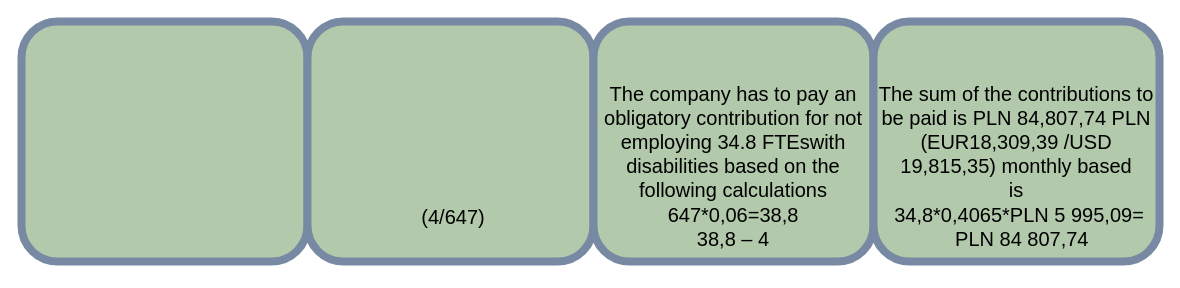
The diagram is 1180 pixels wide and 288 high, and some of its shapes have lost their labels. The box of each missing label's shape, as (x1, y1, x2, y2) in pixels:
647 FTEs in general 4 employees with disabilities: (17, 17, 311, 265)
The employment rate of persons with disabilities in this company is 0.6%: (303, 17, 597, 265)
